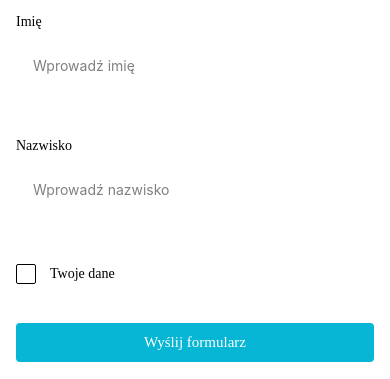
Scenario: PersonalDataScreen - max error
The image size is (390, 379).
In the field with test id "input.name": point(195, 66) [33,57,357,74], type "aaaaaaaaaaaaaaaaaaaaaaaaaaaaaaaaaaaaaaaaaaaaaaaaaaa"
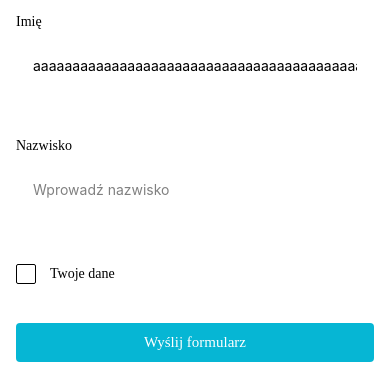
In the field with test id "input.surname": point(195, 190) [33,181,357,198], type "aaaaaaaaaaaaaaaaaaaaaaaaaaaaaaaaaaaaaaaaaaaaaaaaaaa"
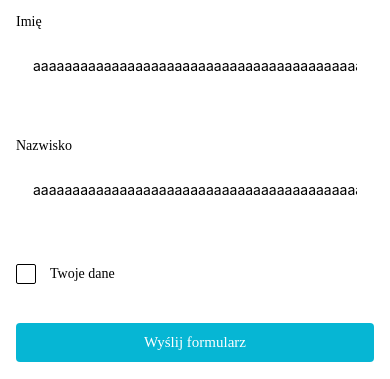
Click the button "Wyślij formularz": point(195, 342) [16,323,374,362]
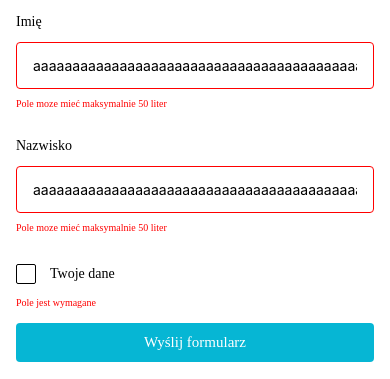
Expected: the text "Pole moze mieć maksymalnie 50 liter" is shown 2 times, [16,98,167,109]; [16,222,167,233]
